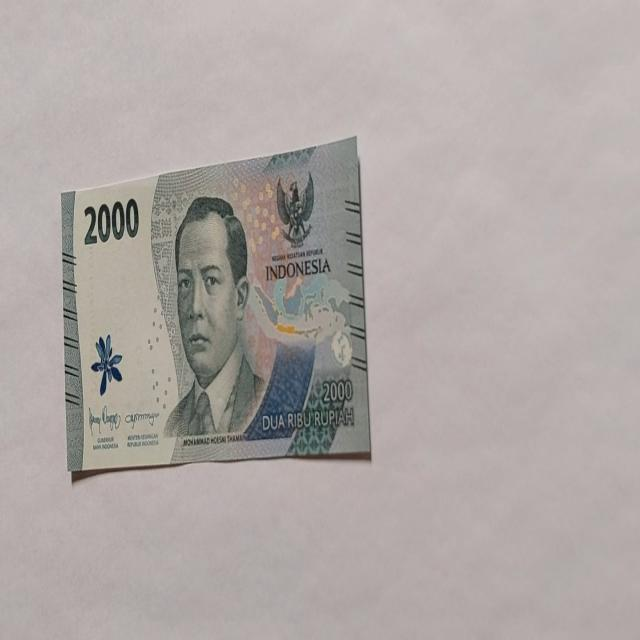dua ribu rupiah: (61, 135, 371, 475), (162, 195, 267, 442)
